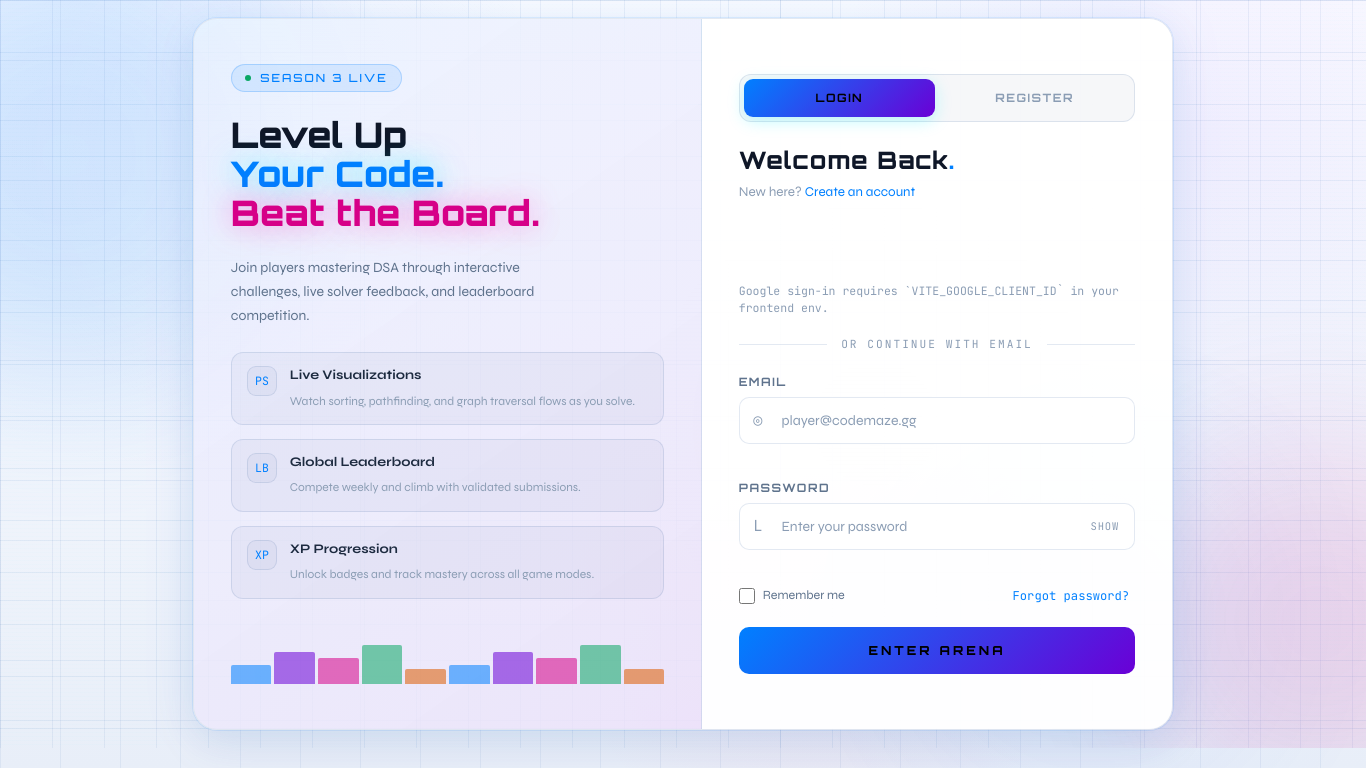
Scenario: LoginPage › toggles password visibility
Click the button named "Show password": x=1105, y=527 [1086,516,1124,538]
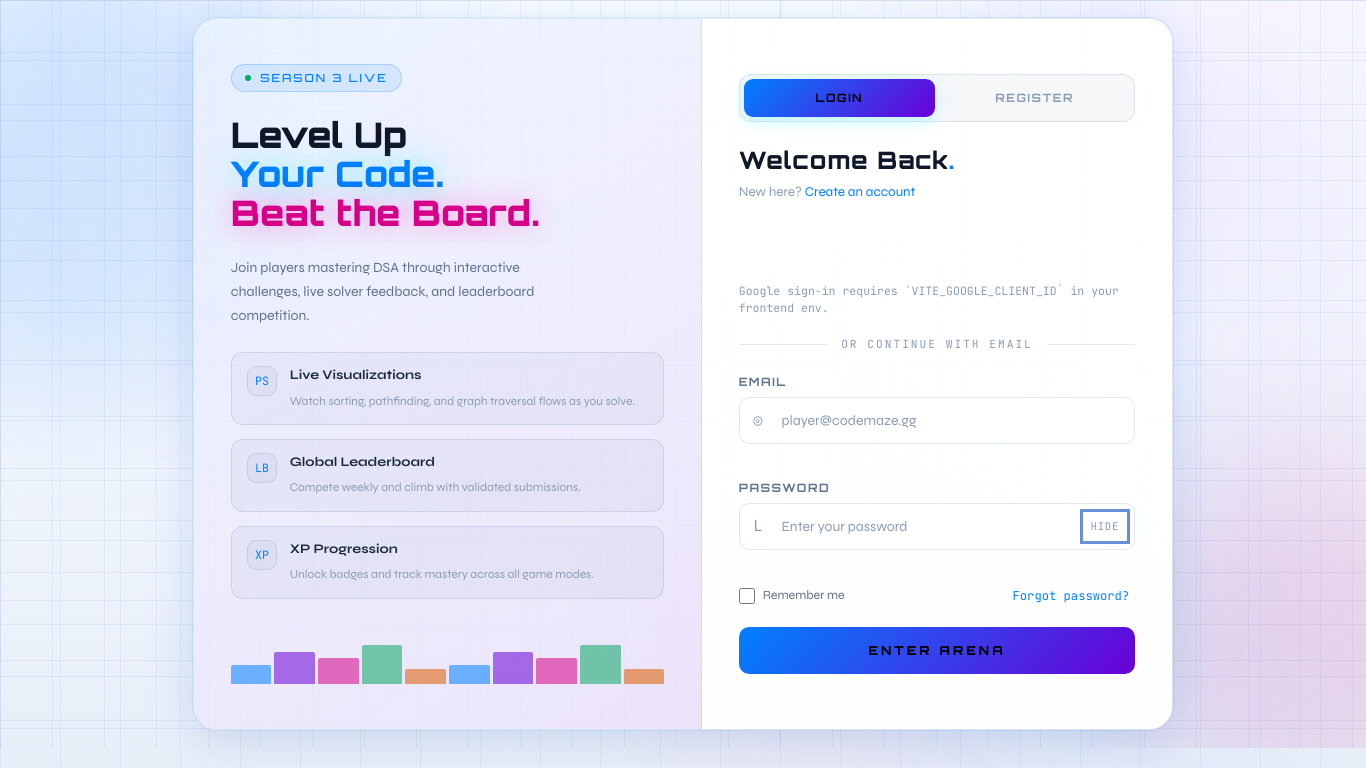
Now the field labelled "Password" shows its text, box [739,503,1135,550]
Click the button named "Hide password": x=1105, y=527 [1086,516,1124,538]
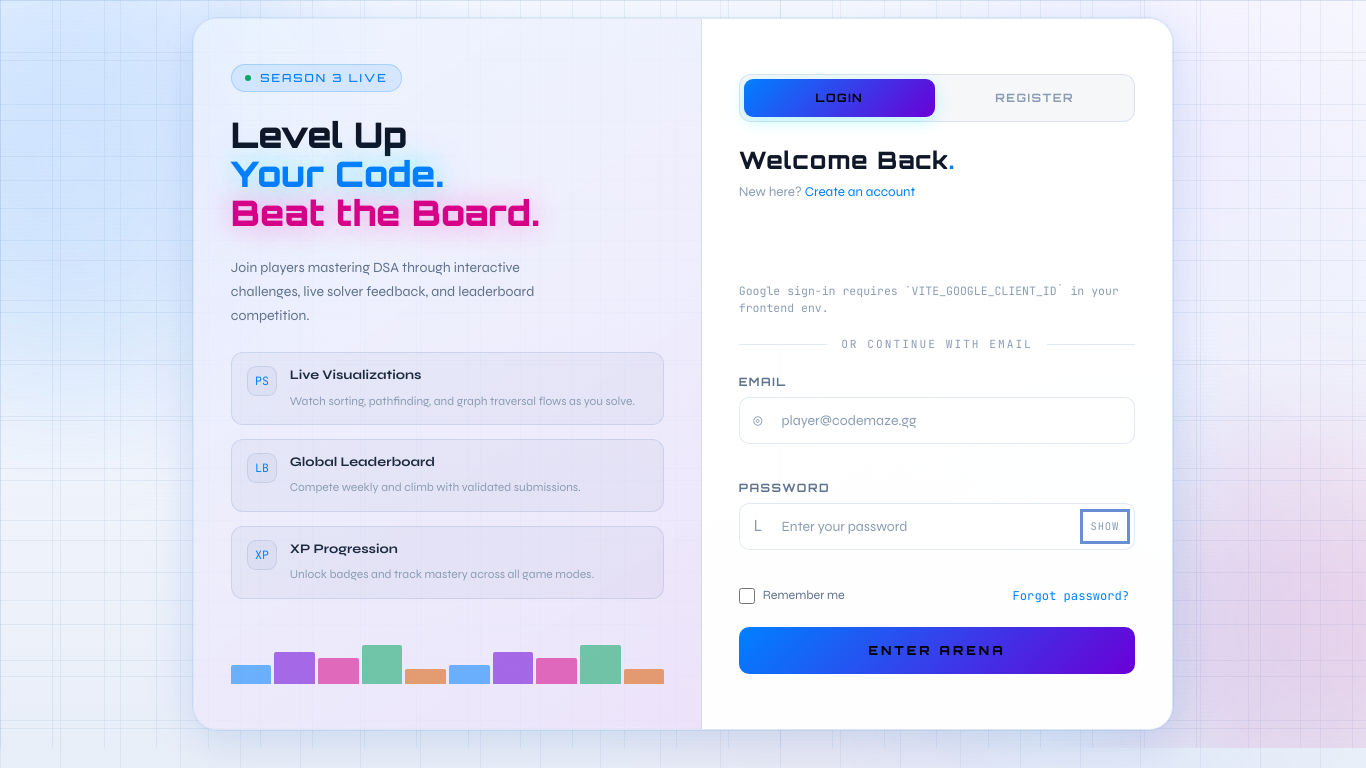
Now the password field labelled "Password" hides its text, box [739,503,1135,550]
